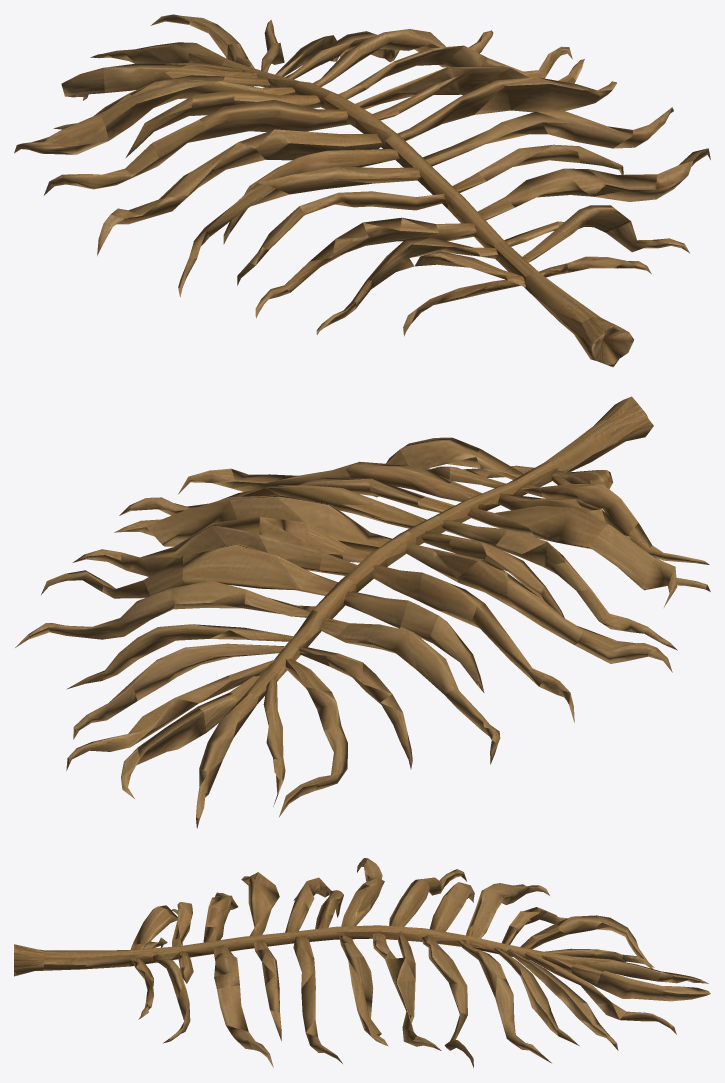
Rendered from chaos-frond.glb.
3 renders of one model, top to bottom at view 1: azimuth 30°, elevation 25°; view 2: azimuth 150°, elevation 25°; view 3: azimuth 270°, elevation 25°, orthographic. The views are drawn at different scales.
Visible parts, largest first — view 1: mesh_node; view 2: mesh_node; view 3: mesh_node.
Part boxes in pixels (x1,y1,x2,y2): mesh_node: (14, 14, 710, 367); mesh_node: (15, 396, 710, 828); mesh_node: (14, 858, 710, 1067).
Bounding box in the file's own units: 0.6816 × 0.1392 × 1.
1 material, 1 textured.
